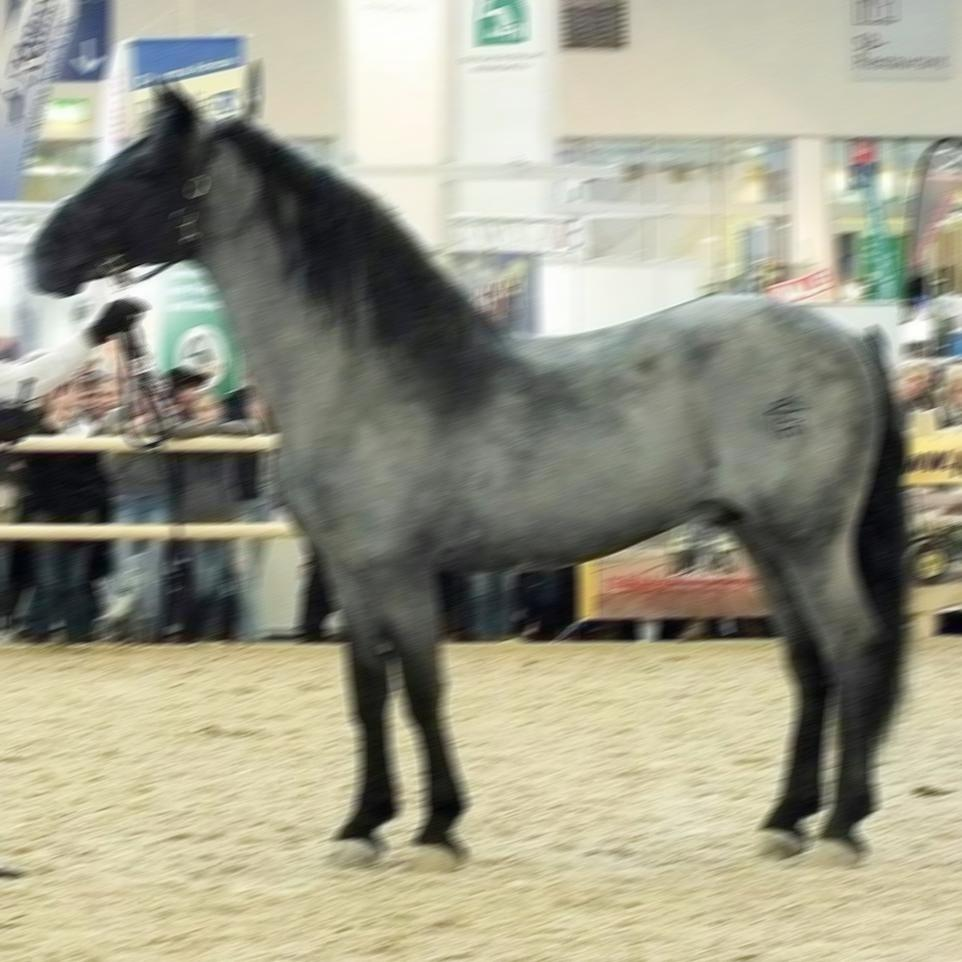horse: (24, 71, 914, 874)
